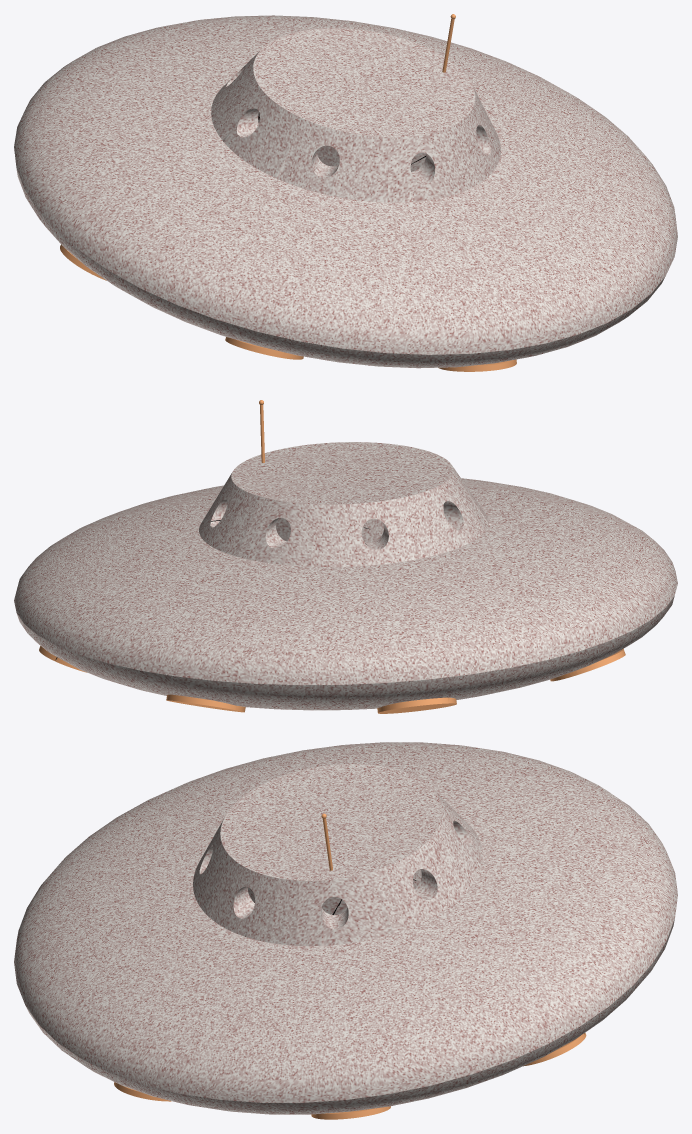
File: ufo.glb
The picture shows the model from 3 angles, top to bottom: view 1: azimuth 30°, elevation 25°; view 2: azimuth 150°, elevation 25°; view 3: azimuth 270°, elevation 25°; orthographic projection.
Visible parts, largest first — view 1: obj_0.001; view 2: obj_0.001; view 3: obj_0.001.
Part boxes in pixels (x1,y1,x2,y2): obj_0.001: (14, 14, 677, 371); obj_0.001: (14, 400, 677, 713); obj_0.001: (14, 742, 677, 1119).
Bounding box in the file's own units: 5.63 × 2.4 × 5.62.
Materials: 1 (1 with a texture image).
